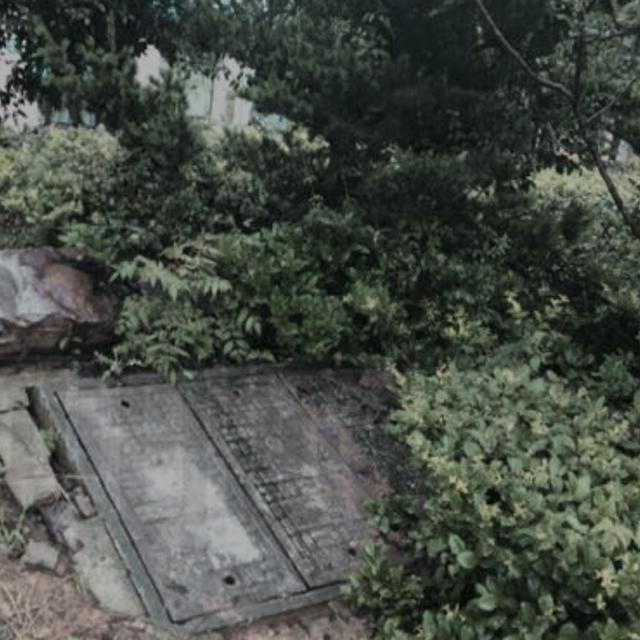good: (33, 352, 418, 633)
